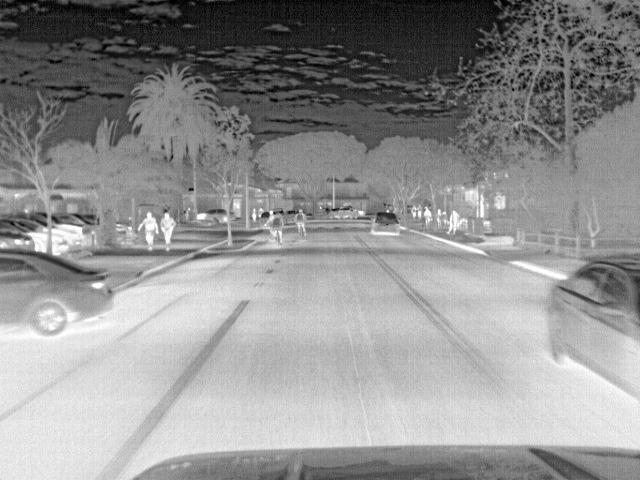car: (544, 257, 639, 399), (1, 250, 117, 336), (1, 217, 48, 256), (368, 210, 401, 236), (50, 218, 92, 236), (197, 207, 227, 227), (54, 233, 69, 258)
person: (135, 212, 161, 251), (158, 212, 179, 253), (267, 209, 285, 243), (292, 208, 308, 238), (444, 210, 461, 236), (423, 202, 435, 230)
